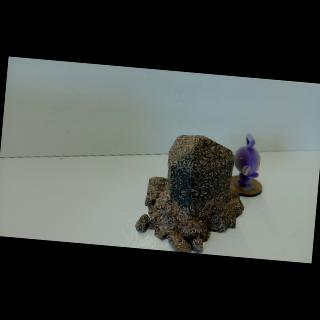teletubby: (234, 134, 260, 187)
